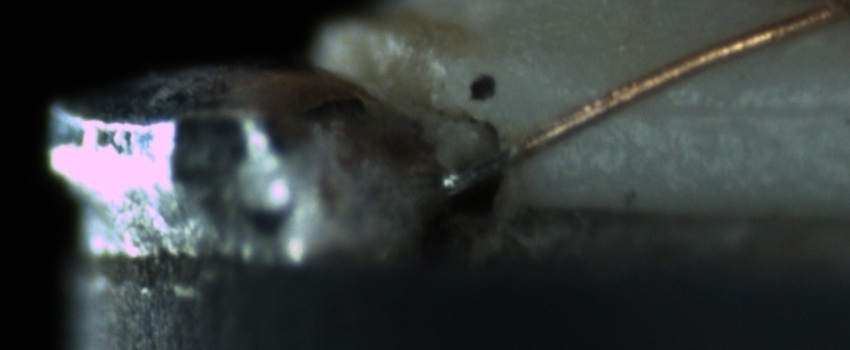DL: (607, 75, 844, 145)
TS: (436, 143, 514, 195)
